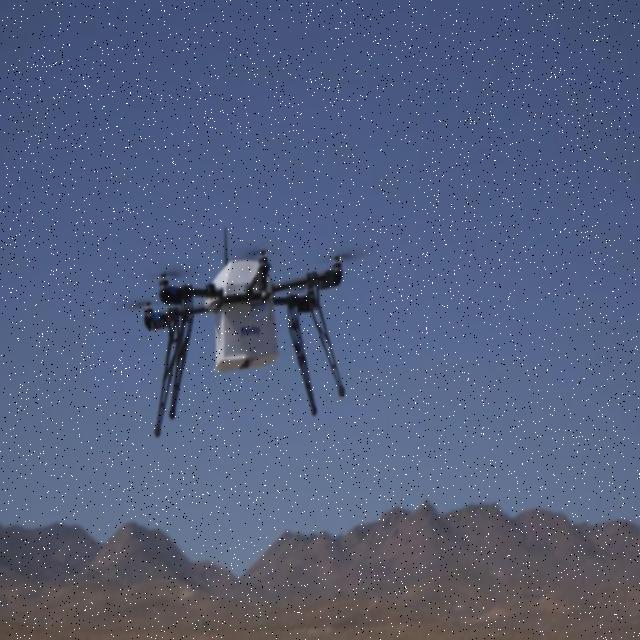UAV: (141, 235, 347, 438)
